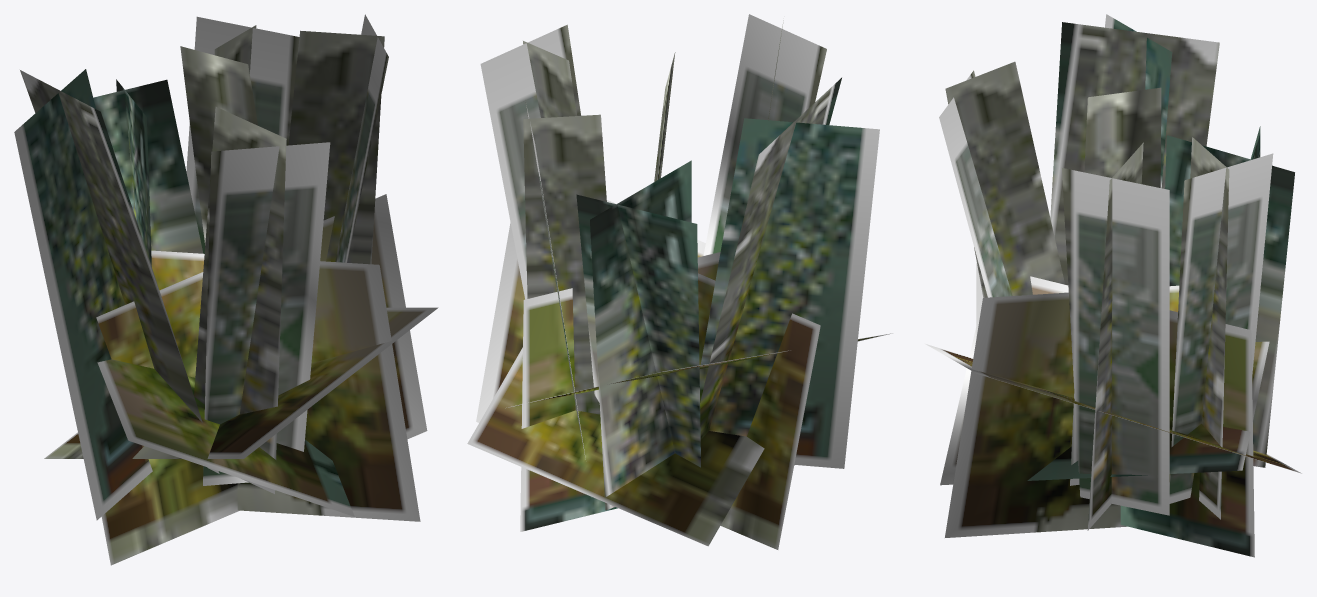
File: SM_Weed_01.fbx
3 renders of one model, left to right at view 1: azimuth 30°, elevation 25°; view 2: azimuth 150°, elevation 25°; view 3: azimuth 270°, elevation 25°, orthographic. The views are drawn at different scales.
Visible parts, largest first — view 1: Weed_01; view 2: Weed_01; view 3: Weed_01.
Part boxes in pixels (x1,y1,x2,y2): Weed_01: (14, 14, 438, 565); Weed_01: (467, 14, 892, 549); Weed_01: (925, 14, 1301, 557).
Bounding box in the file's own units: 94.89 × 79.62 × 105.
